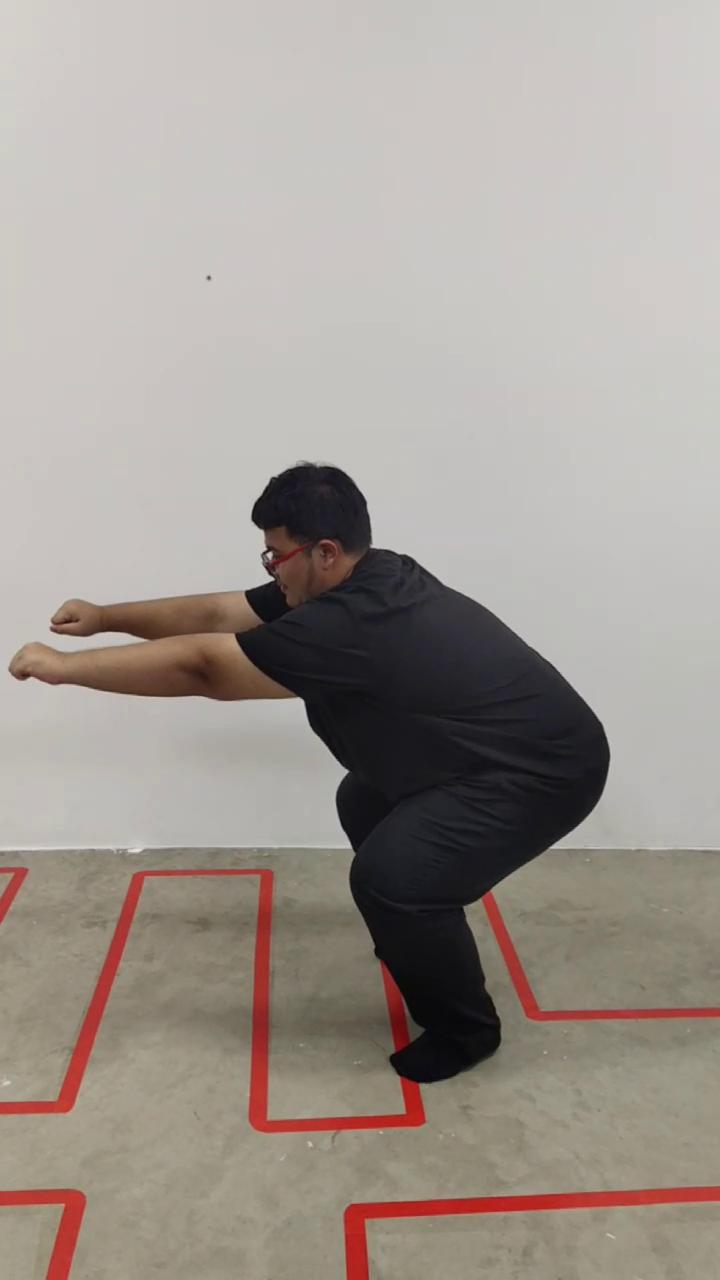squat down: (17, 462, 609, 1082)
